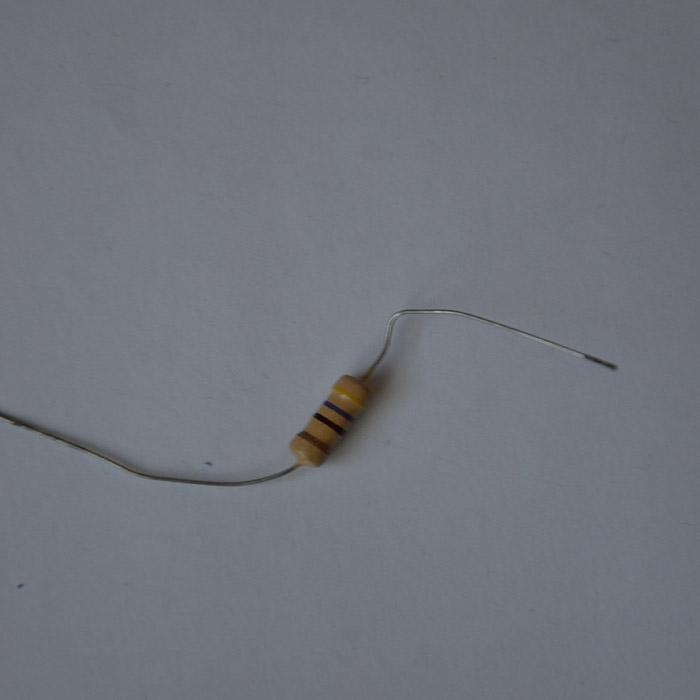resistor: (288, 371, 373, 469)
